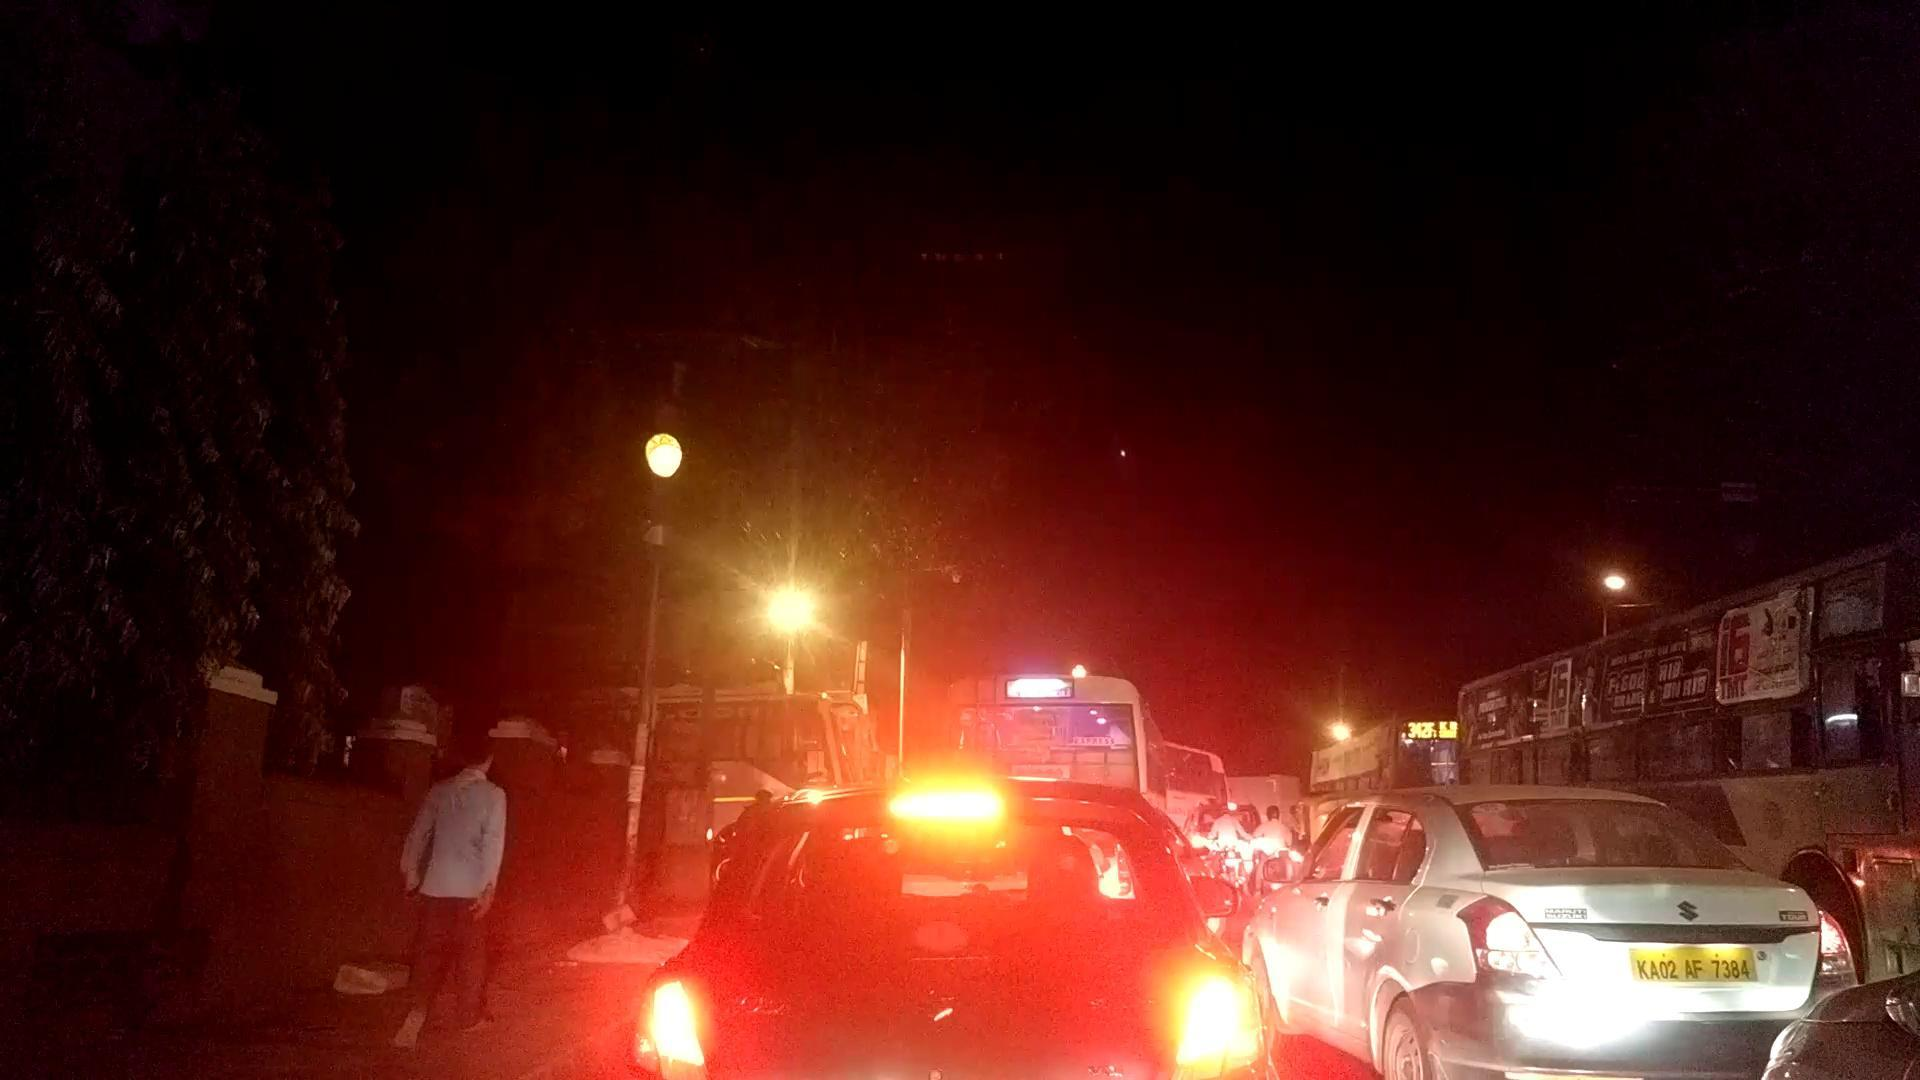on: (570, 411, 935, 843)
